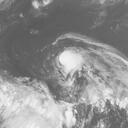cyclone: (57, 46, 92, 80)
